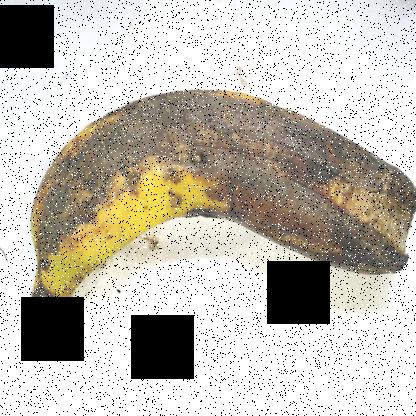rotten: (26, 63, 415, 315)
